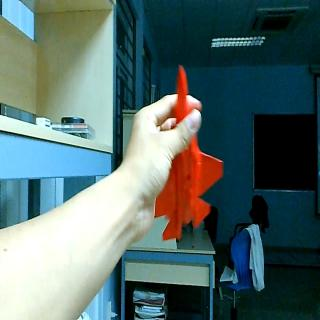Jet: (161, 64, 224, 242)
